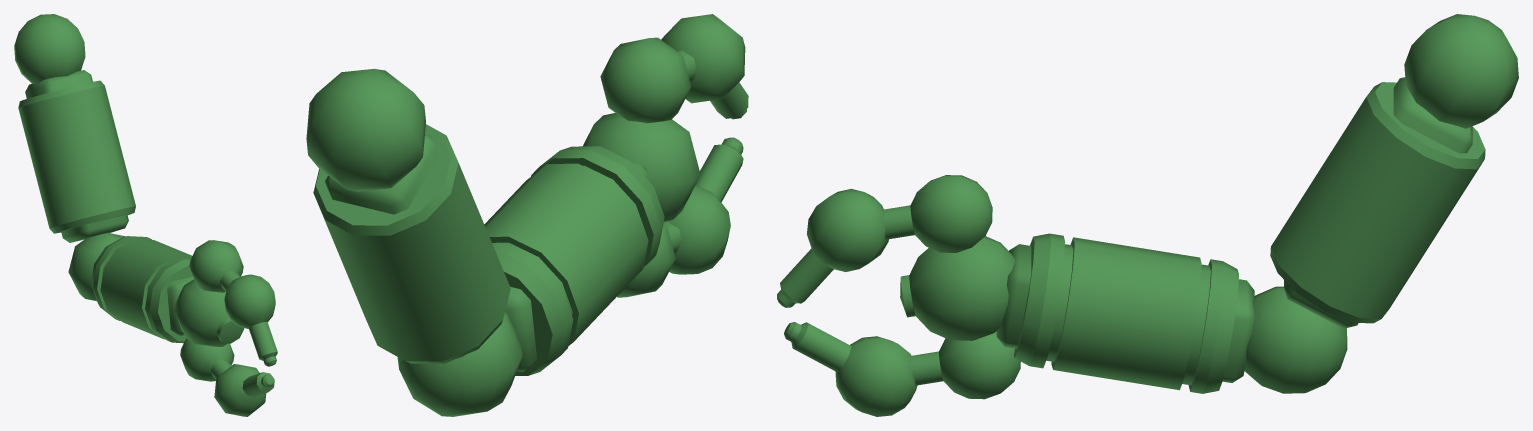
File: ggj_project_bot_arm_002.fbx
The picture shows the model from 3 angles, left to right: view 1: azimuth 30°, elevation 25°; view 2: azimuth 150°, elevation 25°; view 3: azimuth 270°, elevation 25°; orthographic projection. The views are drawn at different scales.
Parts seen in each view (by area): view 1: Sphere.003, Sphere.004, Sphere.006, Sphere.005; view 2: Sphere.003, Sphere.004, Sphere.006, Sphere.005; view 3: Sphere.003, Sphere.004, Sphere.006, Sphere.005.
Part boxes in pixels (bbox=[...]): Sphere.003: bbox=[14, 14, 135, 242]; Sphere.004: bbox=[68, 232, 193, 343]; Sphere.006: bbox=[180, 240, 277, 416]; Sphere.005: bbox=[174, 279, 244, 346]; Sphere.003: bbox=[306, 68, 510, 363]; Sphere.004: bbox=[397, 146, 664, 416]; Sphere.006: bbox=[600, 14, 748, 297]; Sphere.005: bbox=[583, 113, 700, 221]; Sphere.003: bbox=[1270, 14, 1518, 328]; Sphere.004: bbox=[996, 233, 1347, 393]; Sphere.006: bbox=[777, 175, 1020, 416]; Sphere.005: bbox=[900, 236, 1014, 340].
Size of the model in its own units: 28.38 by 90.15 by 154.
